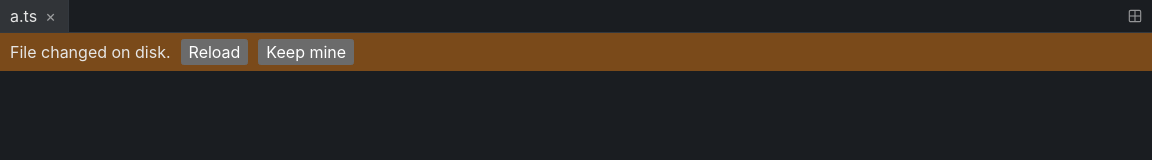
EditorPanel › shows a conflict banner for a path with hasExternalConflict, and 'Keep mine' dismisses it
Check: the element with class "conflict-banner" is shown, box [0,33,1151,71]
Click the button "Keep mine". click: x=306, y=52
box: [258,39,354,65]
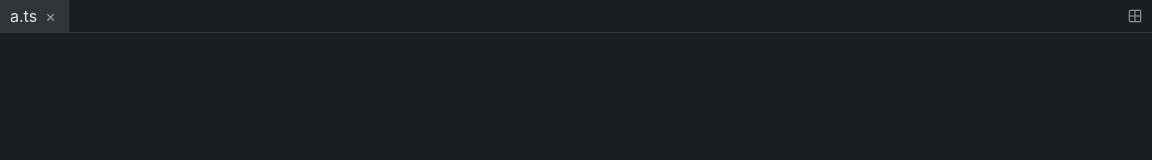
Check: the element with class "conflict-banner" is gone
